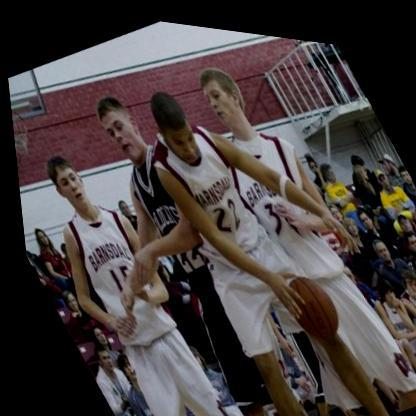basketball: (268, 256, 348, 345)
